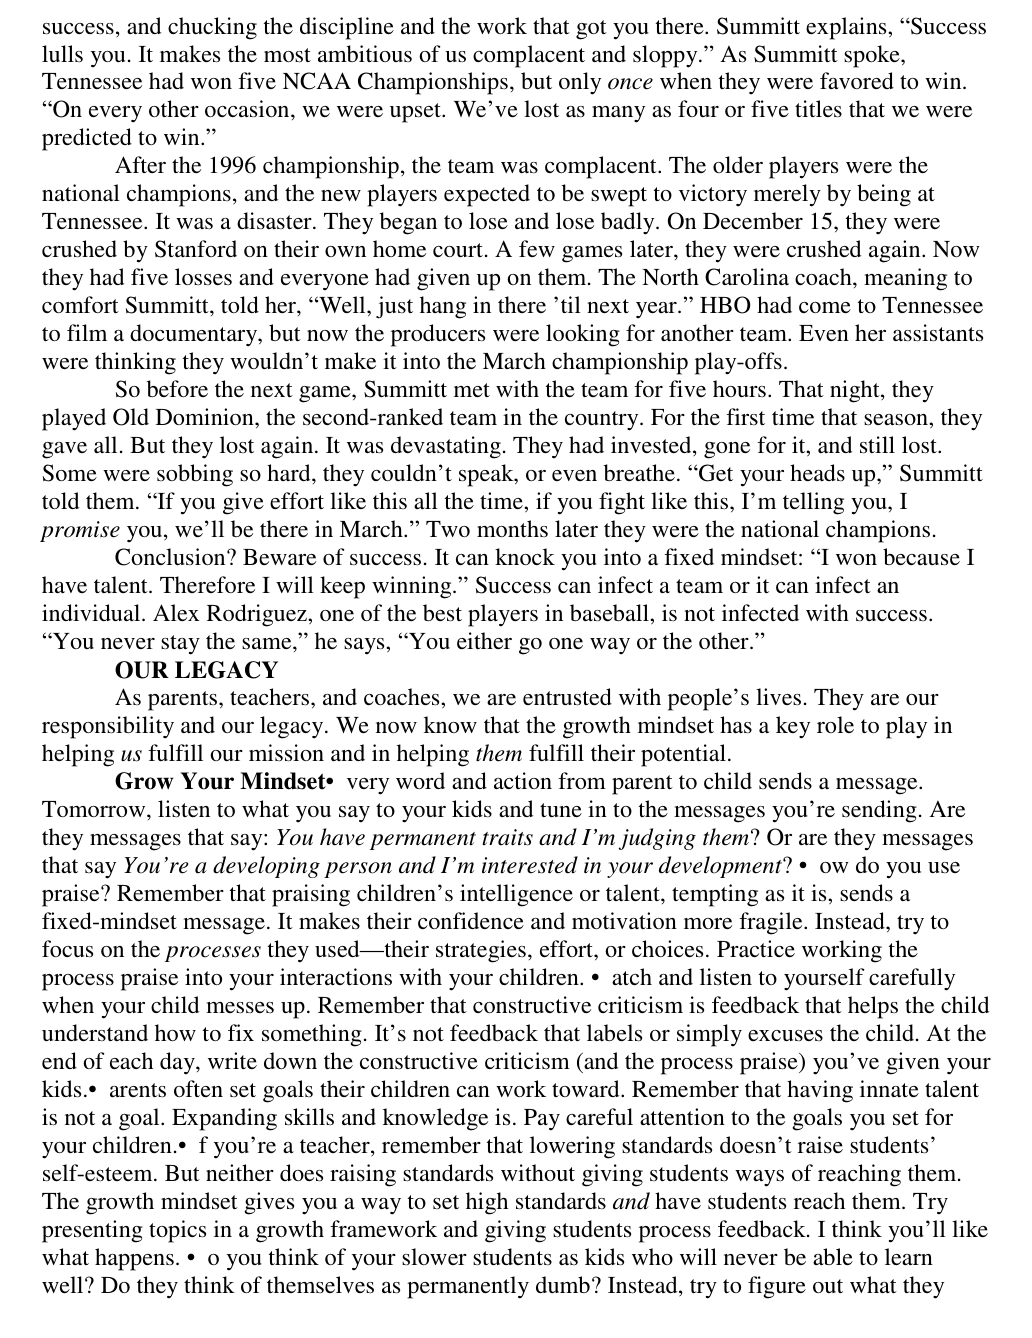latin: (22, 769, 992, 1302), (29, 150, 991, 376), (31, 543, 973, 771), (24, 376, 989, 543), (36, 14, 988, 150)
